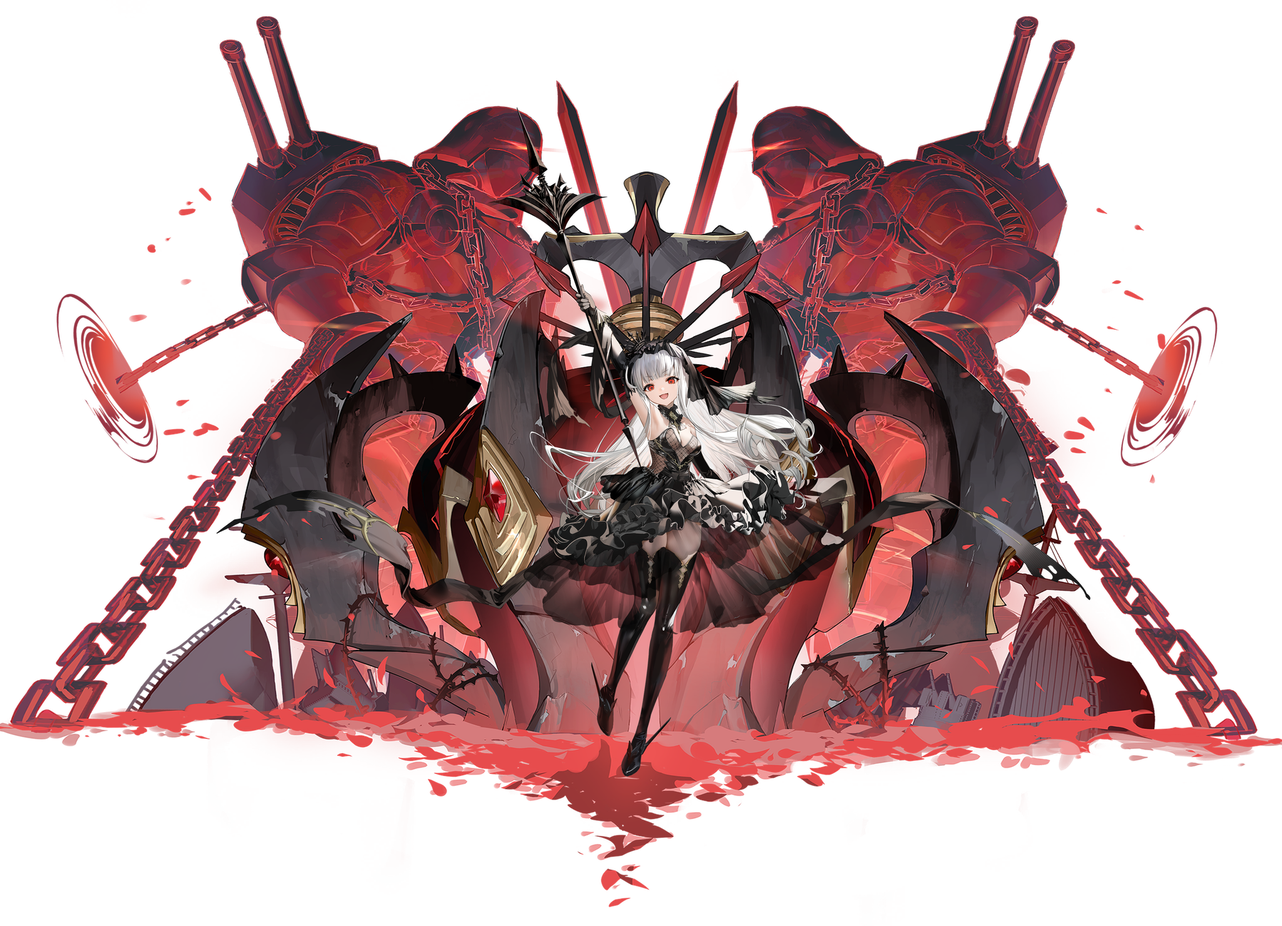person: (573, 318, 782, 800)
